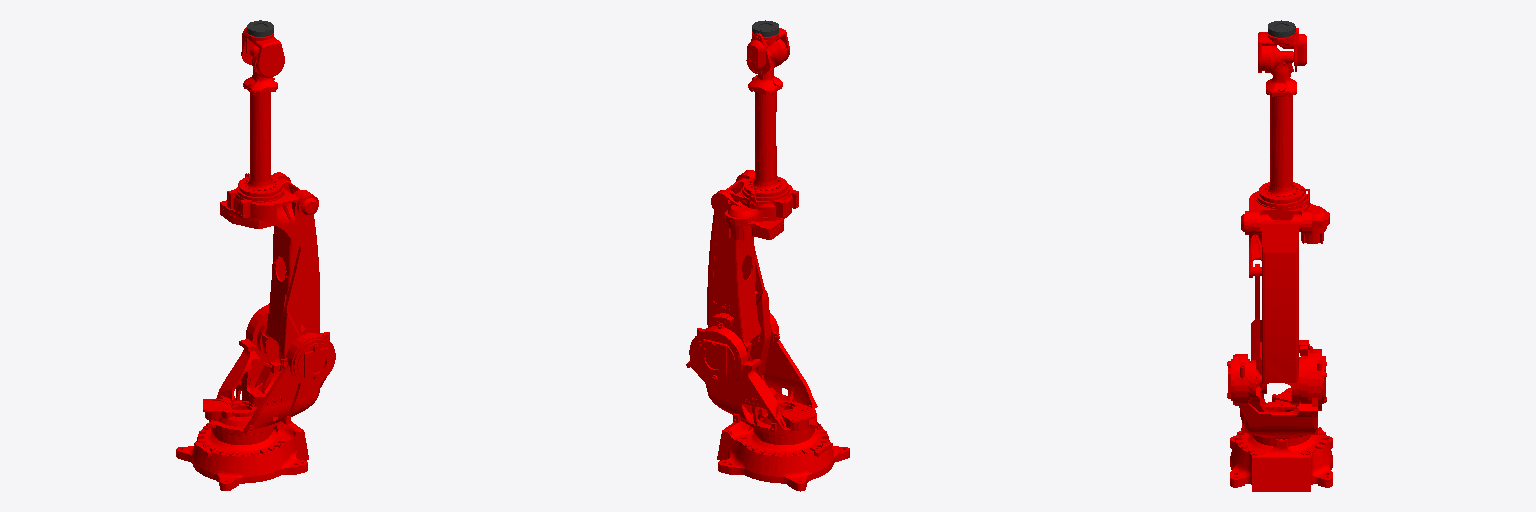
URDF robot description (comau_nj220foundry):
<?xml version="1.0" ?>
<!-- =================================================================================== -->
<!-- |    This document was autogenerated by xacro from comau_nj220foundry.xacro       | -->
<!-- |    EDITING THIS FILE BY HAND IS NOT RECOMMENDED                                 | -->
<!-- =================================================================================== -->
<robot name="comau_nj220foundry" xmlns:xacro="http://ros.org/wiki/xacro">
  <link name="base_link">
    <inertial>
      <origin rpy="0 0 0" xyz="-0.0358170633766097 -1.20441996116888E-05 0.133200870997853"/>
      <mass value="780.971804585525"/>
      <inertia ixx="25.7893755214986" ixy="0.00235845405507113" ixz="-0.00767829710479589" iyy="33.647645098437" iyz="-2.52517581915218E-05" izz="48.0777964288332"/>
    </inertial>
    <visual>
      <origin rpy="0 0 0" xyz="0 0 0"/>
      <geometry>
        <mesh filename="package://comau_nj220foundry_support/meshes/base_link.STL"/>
      </geometry>
      <material name="">
        <color rgba="1 0 0 1"/>
      </material>
    </visual>
    <collision>
      <origin rpy="0 0 0" xyz="0 0 0"/>
      <geometry>
        <mesh filename="package://comau_nj220foundry_support/meshes/base_link.STL"/>
      </geometry>
    </collision>
  </link>
  <link name="link_1">
    <inertial>
      <origin rpy="0 0 0" xyz="-0.31396992767481 0.0253587384500452 -0.474017704993115"/>
      <mass value="420.565744343403"/>
      <inertia ixx="35.7817509056238" ixy="0.520180036390352" ixz="10.0053587127595" iyy="30.9722759894707" iyz="0.160171361208465" izz="34.6744270964128"/>
    </inertial>
    <visual>
      <origin rpy="0 0 0" xyz="0 0 0"/>
      <geometry>
        <mesh filename="package://comau_nj220foundry_support/meshes/link_1.STL"/>
      </geometry>
      <material name="">
        <color rgba="1 0 0 1"/>
      </material>
    </visual>
    <collision>
      <origin rpy="0 0 0" xyz="0 0 0"/>
      <geometry>
        <mesh filename="package://comau_nj220foundry_support/meshes/link_1.STL"/>
      </geometry>
    </collision>
  </link>
  <joint name="Joint_1" type="continuous">
    <origin rpy="3.1416 0 3.1416" xyz="0 0 0.235"/>
    <parent link="base_link"/>
    <child link="link_1"/>
    <axis xyz="0 0 1"/>
    <limit effort="0" lower="-1.570796327" upper="1.570796327" velocity="0"/>
  </joint>
  <link name="link_2">
    <inertial>
      <origin rpy="0 0 0" xyz="0.513837931238063 0.0184154121097806 -0.00325920706541606"/>
      <mass value="120.346338479762"/>
      <inertia ixx="2.21763636029507" ixy="0.108333386772274" ixz="-0.466409872645464" iyy="21.9600059511248" iyz="-0.00164891028536273" izz="21.6711305445385"/>
    </inertial>
    <visual>
      <origin rpy="0 0 0" xyz="0 0 0"/>
      <geometry>
        <mesh filename="package://comau_nj220foundry_support/meshes/link_2.STL"/>
      </geometry>
      <material name="">
        <color rgba="1 0 0 1"/>
      </material>
    </visual>
    <collision>
      <origin rpy="0 0 0" xyz="0 0 0"/>
      <geometry>
        <mesh filename="package://comau_nj220foundry_support/meshes/link_2.STL"/>
      </geometry>
    </collision>
  </link>
  <joint name="Joint_2" type="continuous">
    <origin rpy="-1.5708 1.5708 0" xyz="-0.4 0 -0.595"/>
    <parent link="link_1"/>
    <child link="link_2"/>
    <axis xyz="0 0 1"/>
    <limit effort="0" lower="-1.308996939" upper="1.658062789" velocity="0"/>
  </joint>
  <link name="link_3">
    <inertial>
      <origin rpy="0 0 0" xyz="-0.210396124225083 -0.0423931479719581 -0.019391381682002"/>
      <mass value="303.80693605973"/>
      <inertia ixx="8.35587249373669" ixy="-0.244128411277754" ixz="1.1650469937296" iyy="10.8913039787856" iyz="0.330627906059617" izz="6.72354689581788"/>
    </inertial>
    <visual>
      <origin rpy="0 0 0" xyz="0 0 0"/>
      <geometry>
        <mesh filename="package://comau_nj220foundry_support/meshes/link_3.STL"/>
      </geometry>
      <material name="">
        <color rgba="1 0 0 1"/>
      </material>
    </visual>
    <collision>
      <origin rpy="0 0 0" xyz="0 0 0"/>
      <geometry>
        <mesh filename="package://comau_nj220foundry_support/meshes/link_3.STL"/>
      </geometry>
    </collision>
  </link>
  <joint name="Joint_3" type="continuous">
    <origin rpy="-3.1416 0 1.5708" xyz="1.175 0 0"/>
    <parent link="link_2"/>
    <child link="link_3"/>
    <axis xyz="0 0 1"/>
    <limit effort="0" lower="-4.468042885" upper="0.174532925" velocity="0"/>
  </joint>
  <link name="link_4">
    <inertial>
      <origin rpy="0 0 0" xyz="-0.0256728535495437 2.66762843369739E-05 -0.712275200970885"/>
      <mass value="90.9627495047463"/>
      <inertia ixx="11.9711971614497" ixy="0.000238836881384474" ixz="0.72899757991181" iyy="12.0895566165064" iyz="-0.000197635616744173" izz="0.629339131875661"/>
    </inertial>
    <visual>
      <origin rpy="0 0 0" xyz="0 0 0"/>
      <geometry>
        <mesh filename="package://comau_nj220foundry_support/meshes/link_4.STL"/>
      </geometry>
      <material name="">
        <color rgba="1 0 0 1"/>
      </material>
    </visual>
    <collision>
      <origin rpy="0 0 0" xyz="0 0 0"/>
      <geometry>
        <mesh filename="package://comau_nj220foundry_support/meshes/link_4.STL"/>
      </geometry>
    </collision>
  </link>
  <joint name="Joint_4" type="continuous">
    <origin rpy="1.5708 1.5708 0" xyz="-0.25 0.105 0"/>
    <parent link="link_3"/>
    <child link="link_4"/>
    <axis xyz="0 0 1"/>
    <limit effort="0" lower="-6.2831853" upper="6.2831853" velocity="0"/>
  </joint>
  <link name="link_5">
    <inertial>
      <origin rpy="0 0 0" xyz="-2.49575698055282E-05 -0.0937543698376899 0.0150627860882397"/>
      <mass value="50.6154004140881"/>
      <inertia ixx="0.865924420901739" ixy="-1.86243900593643E-05" ixz="-9.94807975766733E-05" iyy="0.668259992097818" iyz="0.0263894524846694" izz="0.387396231292754"/>
    </inertial>
    <visual>
      <origin rpy="0 0 0" xyz="0 0 0"/>
      <geometry>
        <mesh filename="package://comau_nj220foundry_support/meshes/link_5.STL"/>
      </geometry>
      <material name="">
        <color rgba="1 0 0 1"/>
      </material>
    </visual>
    <collision>
      <origin rpy="0 0 0" xyz="0 0 0"/>
      <geometry>
        <mesh filename="package://comau_nj220foundry_support/meshes/link_5.STL"/>
      </geometry>
    </collision>
  </link>
  <joint name="Joint_5" type="continuous">
    <origin rpy="1.5708 0 1.5708" xyz="0 0 -1.0203"/>
    <parent link="link_4"/>
    <child link="link_5"/>
    <axis xyz="0 0 1"/>
    <limit effort="0" lower="-2.1816" upper="2.1816" velocity="0"/>
  </joint>
  <link name="link_6">
    <inertial>
      <origin rpy="0 0 0" xyz="-0.000609515326357325 5.99002323801445E-05 -0.0238593646013907"/>
      <mass value="5.34369556729818"/>
      <inertia ixx="0.015146537297728" ixy="-5.65758676356259E-06" ixz="-1.08667116239343E-05" iyy="0.0150032929637792" iyz="1.19663919621948E-06" izz="0.0291340358139359"/>
    </inertial>
    <visual>
      <origin rpy="0 0 0" xyz="0 0 0"/>
      <geometry>
        <mesh filename="package://comau_nj220foundry_support/meshes/link_6.STL"/>
      </geometry>
      <material name="">
        <color rgba="0.250980392156863 0.250980392156863 0.250980392156863 1"/>
      </material>
    </visual>
    <collision>
      <origin rpy="0 0 0" xyz="0 0 0"/>
      <geometry>
        <mesh filename="package://comau_nj220foundry_support/meshes/link_6.STL"/>
      </geometry>
    </collision>
  </link>
  <joint name="Joint_6" type="continuous">
    <origin rpy="-1.5708 -1.5708 0" xyz="0 -0.1905 0"/>
    <parent link="link_5"/>
    <child link="link_6"/>
    <axis xyz="0 0 1"/>
    <limit effort="0" lower="-6.2831853" upper="6.2831853" velocity="0"/>
  </joint>
  <link name="flange"/>
  <joint name="flange_fake_jnt" type="fixed">
    <origin rpy="3.1416 0 -1.5708" xyz="0 0 -0.0395"/>
    <parent link="link_6"/>
    <child link="flange"/>
    <axis xyz="0 0 0"/>
  </joint>
  <link name="ee_link"/>
  <joint name="ee_link_fixed" type="fixed">
    <origin rpy="0.0 0.0 0.0" xyz="0.0 0.0 0.0"/>
    <parent link="flange"/>
    <child link="ee_link"/>
    <axis xyz="0 0 0"/>
  </joint>
  <!-- ROS base_link to COMAU World Coordinates transform -->
  <link name="base"/>
  <joint name="base_link-base" type="fixed">
    <origin rpy="0 0 0" xyz="0 0 0"/>
    <child link="base"/>
    <parent link="base_link"/>
  </joint>
  <!-- Frame coincident with all-zeros TCP on COMAU controller -->
  <link name="world"/>
  <joint name="world_joint" type="fixed">
    <child link="world"/>
    <parent link="base"/>
    <origin rpy="0 0 -3.14159265" xyz="0.0 0.0 0.0"/>
  </joint>
</robot>

--- Facts derived from the render (not from the file) ---
Views: 3 orthographic renders of the robot side by side, from view 1: azimuth 30°, elevation 25°; view 2: azimuth 150°, elevation 25°; view 3: azimuth 270°, elevation 25°.
Robot: comau_nj220foundry — 11 links, 10 joints (6 continuous, 4 fixed); root link base_link; default pose: all joints at 0.
Visible links, largest first — view 1: link_1, base_link, link_3, link_2, link_4, link_5; view 2: link_1, base_link, link_2, link_3, link_4, link_5; view 3: link_2, base_link, link_1, link_4, link_3, link_5.
Boxes of the visible links, x1,y1,x2,y2 form: link_1: [203, 304, 335, 435]; base_link: [176, 410, 308, 490]; link_3: [220, 172, 318, 368]; link_2: [262, 179, 319, 362]; link_4: [238, 46, 282, 196]; link_5: [241, 27, 284, 77]; link_1: [686, 313, 820, 435]; base_link: [717, 421, 849, 491]; link_2: [707, 178, 760, 360]; link_3: [711, 170, 798, 381]; link_4: [744, 39, 787, 196]; link_5: [746, 28, 789, 74]; link_2: [1260, 214, 1309, 404]; base_link: [1230, 427, 1332, 491]; link_1: [1227, 346, 1326, 438]; link_4: [1259, 46, 1306, 202]; link_3: [1241, 189, 1329, 411]; link_5: [1258, 28, 1306, 72].
Size in the robot's own frame: 1.01 by 0.7215 by 3.36 metres.
Meshes: 7 distinct files referenced, 7 mesh visuals loaded (7 binary STL).